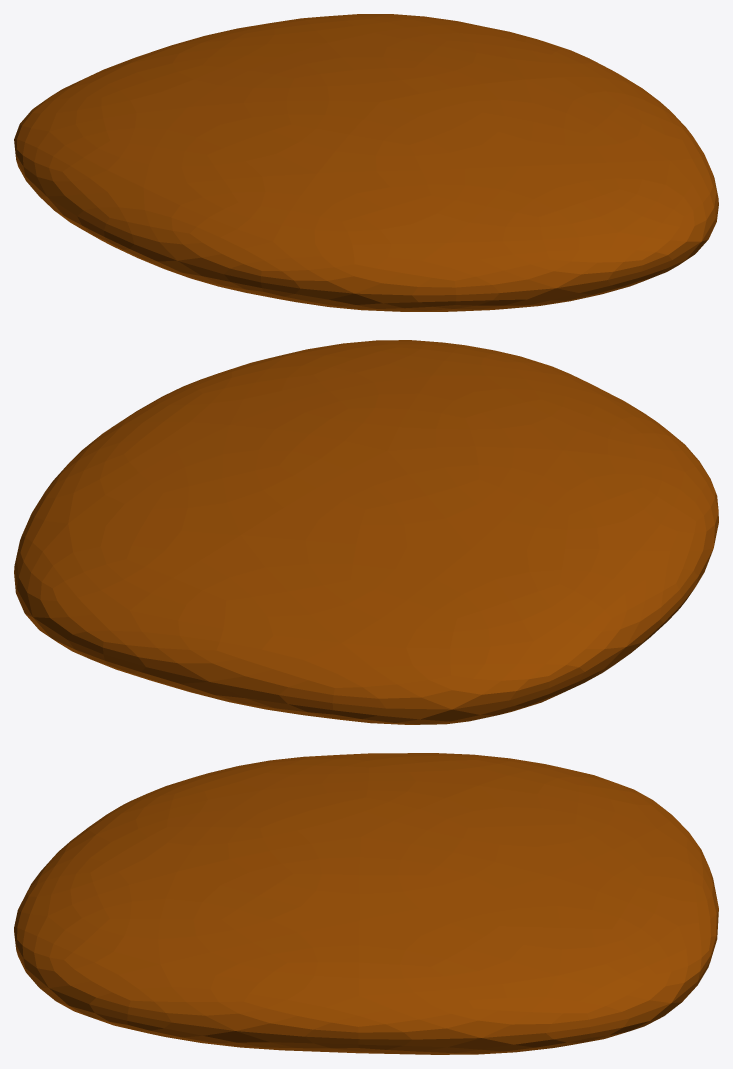
Rendered from tarla.fbx.
3 renders of one model, top to bottom at view 1: azimuth 30°, elevation 25°; view 2: azimuth 150°, elevation 25°; view 3: azimuth 270°, elevation 25°, orthographic. The views are drawn at different scales.
Visible parts, largest first — view 1: Icosphere; view 2: Icosphere; view 3: Icosphere.
Boxes of the visible parts, <box> form: Icosphere: <box>14,14,718,311</box>; Icosphere: <box>14,340,718,724</box>; Icosphere: <box>14,753,718,1054</box>.
Size of the model in its own units: 193 by 44.26 by 213.
